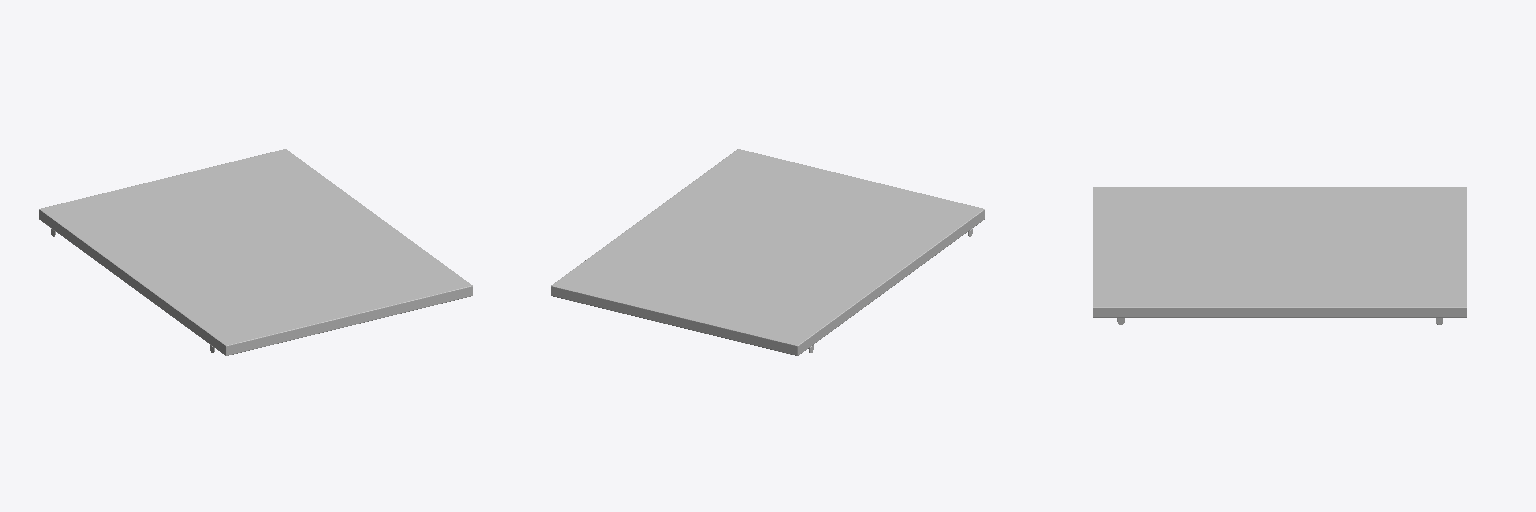
Rendered from Kitchen02Shelf.obj.
The picture shows the model from 3 angles: view 1: azimuth 30°, elevation 25°; view 2: azimuth 150°, elevation 25°; view 3: azimuth 270°, elevation 25°; orthographic projection.
Parts seen in each view (by area): view 1: SM_Kitchen_02_Shelf_11; view 2: SM_Kitchen_02_Shelf_11; view 3: SM_Kitchen_02_Shelf_11.
Boxes of the visible parts, x1=… form: SM_Kitchen_02_Shelf_11: x1=39, y1=149, x2=472, y2=355; SM_Kitchen_02_Shelf_11: x1=551, y1=149, x2=984, y2=355; SM_Kitchen_02_Shelf_11: x1=1093, y1=187, x2=1466, y2=324.
Size of the model in its own units: 36.8 by 2.49 by 48.29.